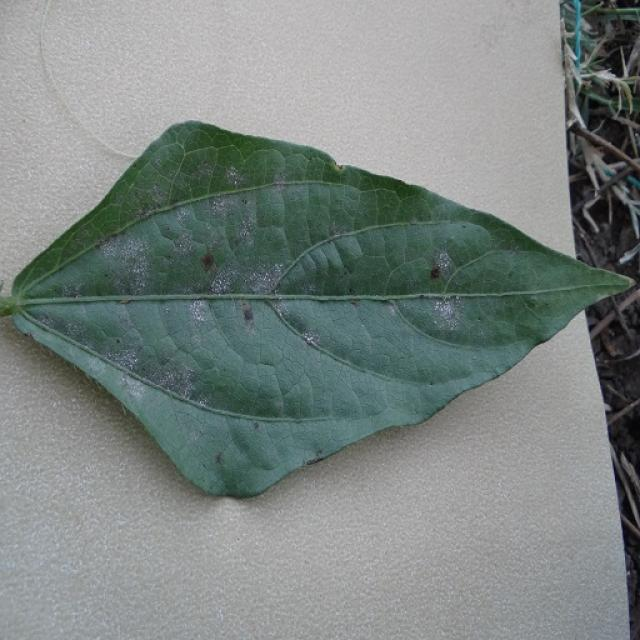Blackgram: (12, 122, 630, 496)
Powdery_Mildew: (79, 252, 216, 395), (416, 245, 462, 333), (103, 230, 154, 293), (141, 350, 197, 397), (246, 257, 286, 299), (104, 338, 144, 374), (232, 202, 258, 246), (245, 266, 281, 295), (430, 296, 461, 329), (170, 223, 198, 257), (210, 263, 238, 294), (130, 248, 152, 280), (431, 250, 453, 281), (123, 376, 146, 402), (210, 193, 230, 218), (149, 183, 168, 207), (190, 301, 209, 324), (137, 200, 160, 219), (176, 206, 194, 228), (62, 281, 82, 298), (301, 330, 320, 347), (225, 166, 242, 185), (332, 223, 348, 239), (197, 395, 212, 409), (273, 172, 286, 185), (387, 304, 397, 316), (217, 611, 225, 622)
